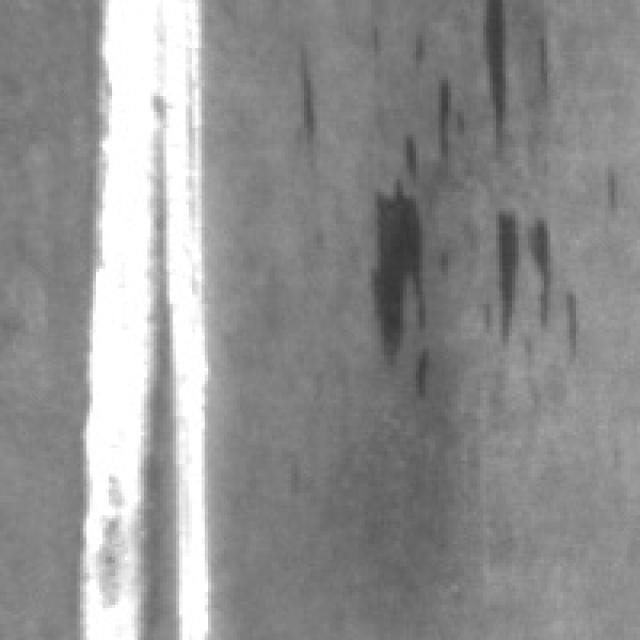inclusion: (371, 157, 445, 368), (499, 202, 586, 346), (458, 0, 522, 154), (298, 51, 336, 157)
scratches: (74, 0, 220, 634)
